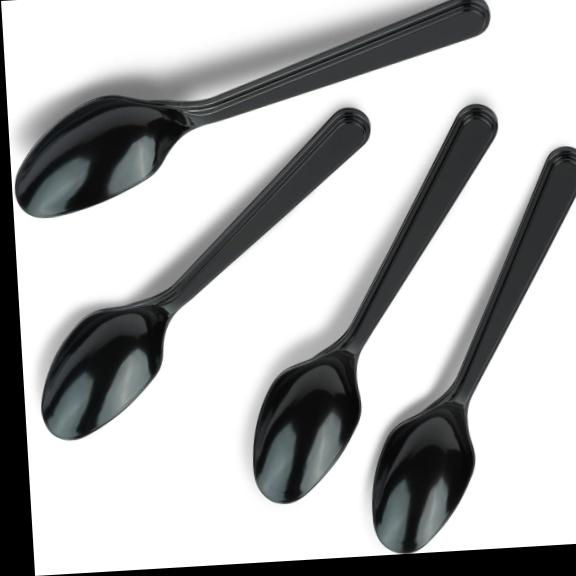Plastik: (41, 109, 369, 439), (15, 0, 489, 216), (253, 105, 496, 502), (372, 147, 575, 552)
